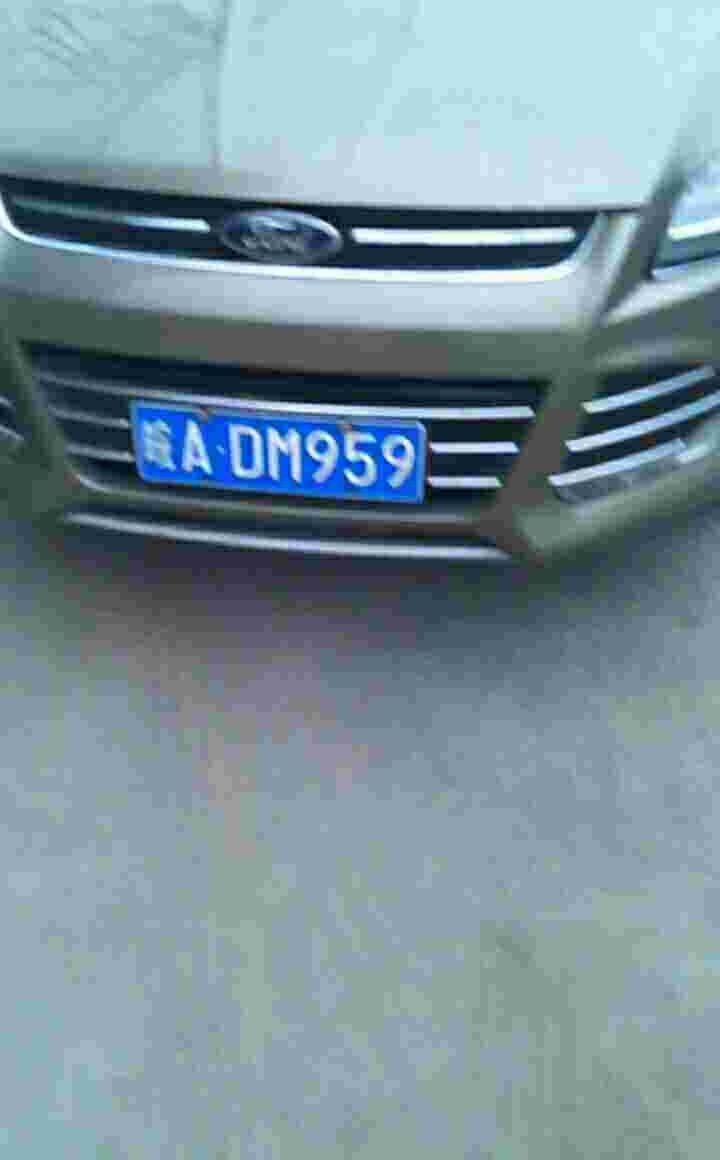license_plate: (126, 407, 428, 502)
